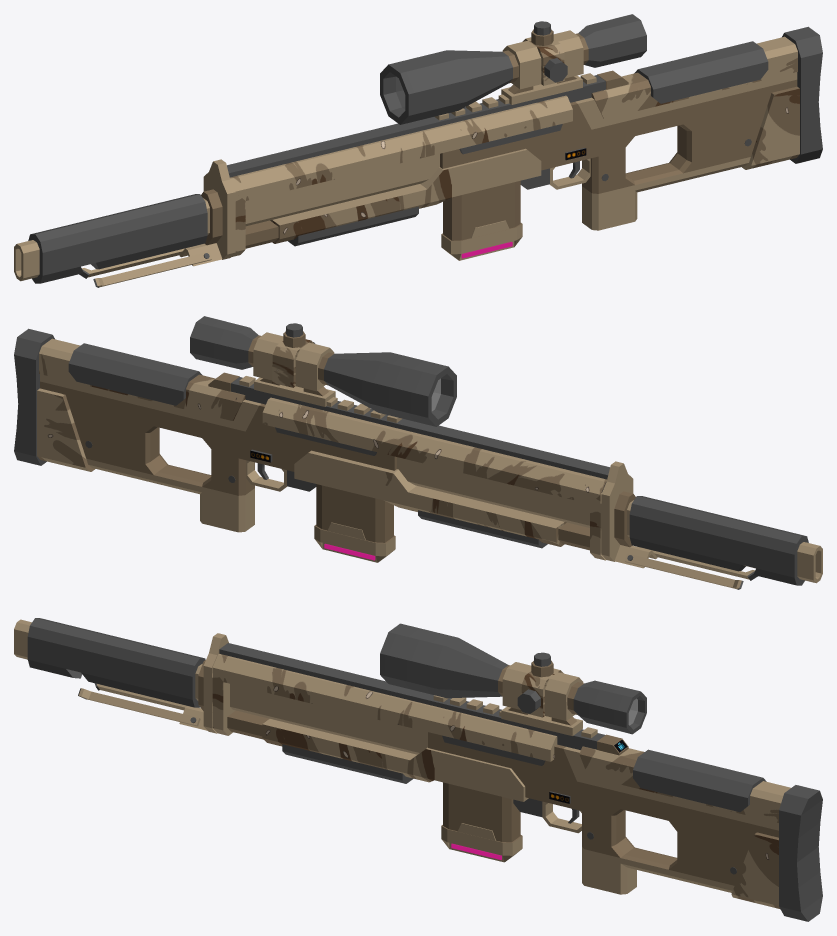
3 views of the same model, one above another, from view 1: azimuth 30°, elevation 25°; view 2: azimuth 150°, elevation 25°; view 3: azimuth 330°, elevation 25° (orthographic).
Parts seen in each view (by area): view 1: SM_SR01A, SM_Scope04, SM_Mag_L1, SR_B1_LegL_mesh, SR_B1_LegR_mesh, SM_Bipod02; view 2: SM_SR01A, SM_Scope04, SM_Mag_L1, SR_B1_LegR_mesh, SR_B1_LegL_mesh, SM_Bipod02; view 3: SM_SR01A, SM_Scope04, SM_Mag_L1, SR_B1_LegL_mesh, SR_B1_LegR_mesh.
Boxes of the visible parts, x1,y1,x2,y2 form: SM_SR01A: (14, 26, 822, 283); SM_Scope04: (380, 14, 646, 124); SM_Mag_L1: (441, 180, 522, 260); SR_B1_LegL_mesh: (93, 251, 211, 287); SR_B1_LegR_mesh: (79, 248, 184, 278); SM_Bipod02: (179, 243, 222, 266); SM_SR01A: (14, 328, 822, 585); SM_Scope04: (190, 316, 456, 426); SM_Mag_L1: (314, 484, 395, 562); SR_B1_LegR_mesh: (625, 553, 743, 589); SR_B1_LegL_mesh: (637, 546, 757, 580); SM_Bipod02: (614, 545, 657, 568); SM_SR01A: (14, 618, 822, 921); SM_Scope04: (380, 623, 646, 735); SM_Mag_L1: (441, 782, 522, 862); SR_B1_LegL_mesh: (78, 688, 200, 726); SR_B1_LegR_mesh: (94, 683, 201, 710).
Size of the model in its own units: 111 by 28.43 by 7.41.
5 materials, 2 textured.
